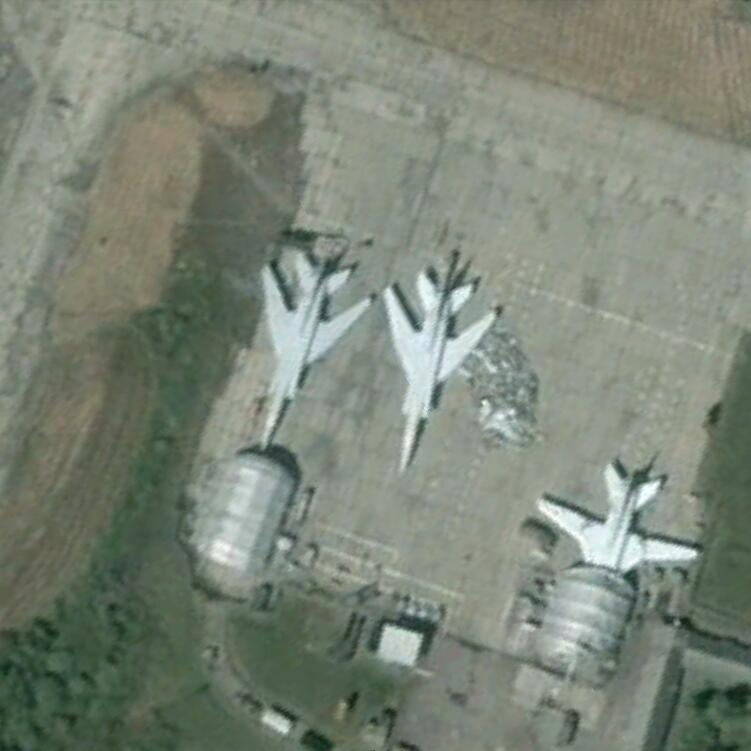A12: (383, 250, 503, 477), (254, 241, 377, 450)
